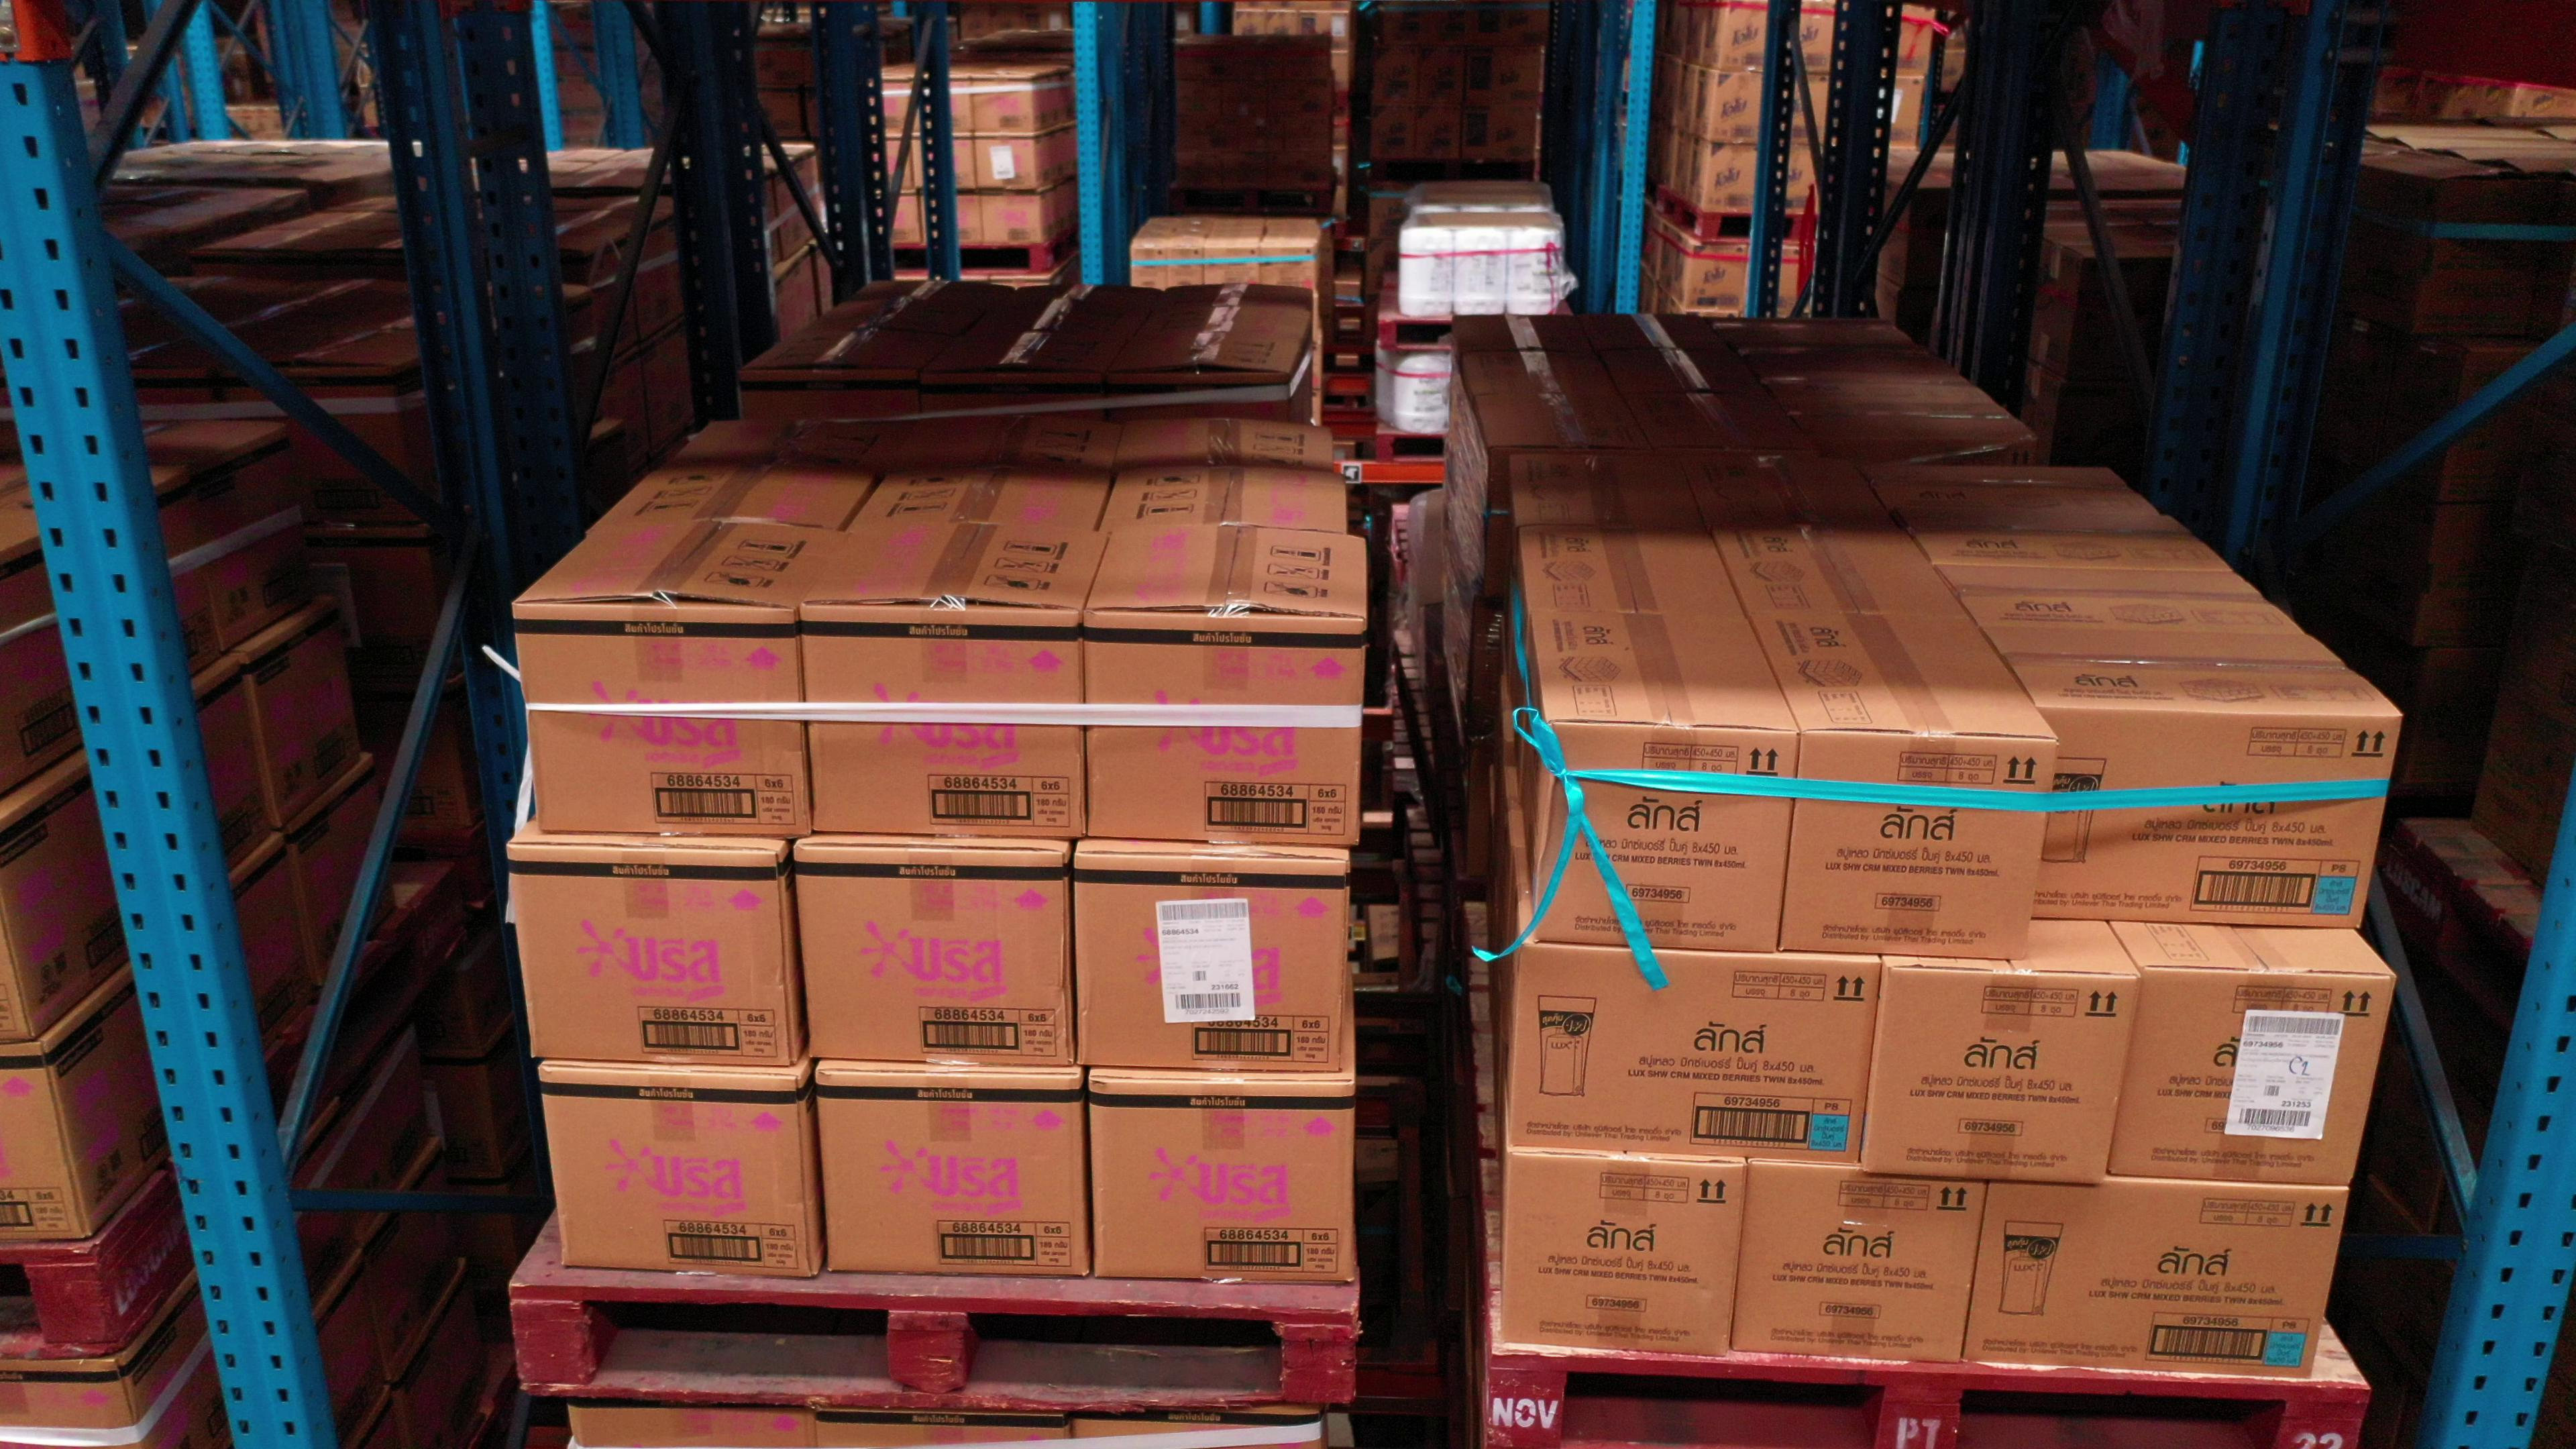-: (2031, 706, 2401, 934), (1511, 941, 1881, 1168), (1960, 1177, 2348, 1382), (511, 600, 812, 839), (1083, 607, 1369, 847), (803, 602, 1090, 839), (1778, 727, 2059, 961), (511, 840, 796, 1067), (2111, 968, 2397, 1189), (794, 840, 1070, 1069), (1534, 727, 1799, 957), (1863, 966, 2143, 1184), (1076, 853, 1345, 1074), (541, 1065, 810, 1279), (816, 1067, 1086, 1279), (1090, 1076, 1355, 1283), (1736, 1161, 1990, 1366), (1502, 1150, 1748, 1357), (0, 1040, 92, 1246), (0, 1357, 150, 1449), (568, 1399, 816, 1449), (803, 1407, 1070, 1449), (1070, 1414, 1320, 1449)
